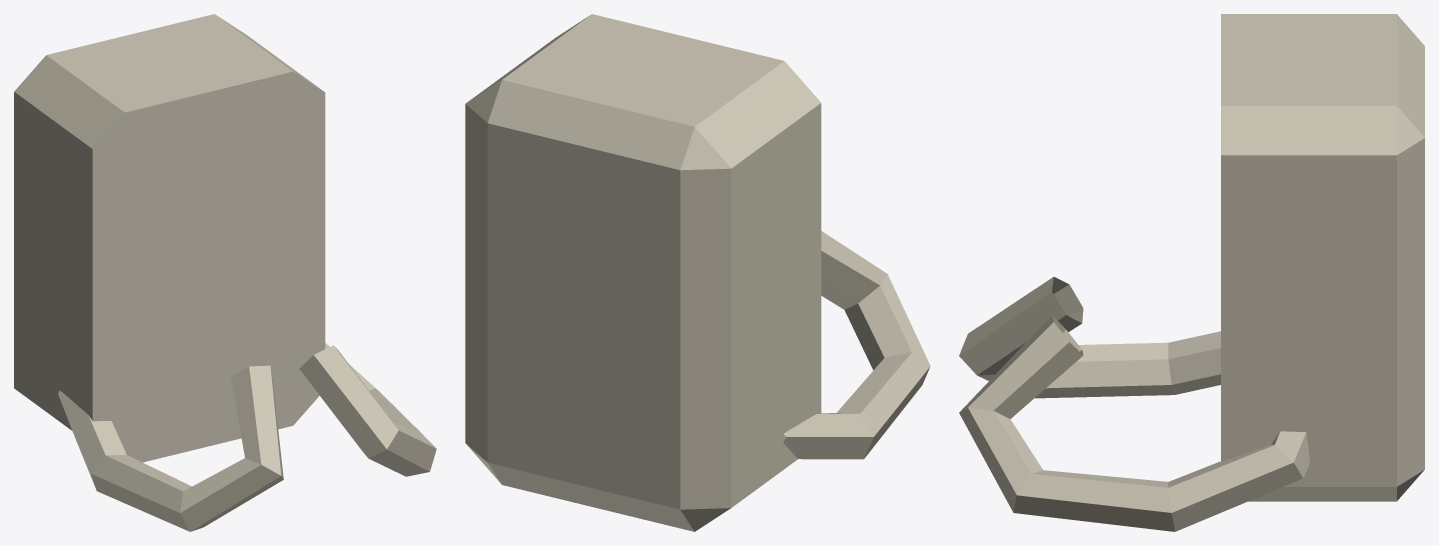
The model's file is Zaino.fbx.
3 views of the same model, side by side, from view 1: azimuth 30°, elevation 25°; view 2: azimuth 150°, elevation 25°; view 3: azimuth 270°, elevation 25° (orthographic). The views are drawn at different scales.
Parts seen in each view (by area): view 1: Zaino, Tubo2, Tubo; view 2: Zaino, Tubo2; view 3: Zaino, Tubo, Tubo2.
Boxes of the visible parts, <box> form: Zaino: <box>14,14,325,462</box>; Tubo2: <box>58,365,283,531</box>; Tubo: <box>299,343,436,476</box>; Zaino: <box>465,14,821,531</box>; Tubo2: <box>783,231,930,459</box>; Zaino: <box>1221,14,1424,501</box>; Tubo: <box>959,315,1309,531</box>; Tubo2: <box>959,277,1220,398</box>.
Bounding box in the file's own units: 298 × 341 × 363.
